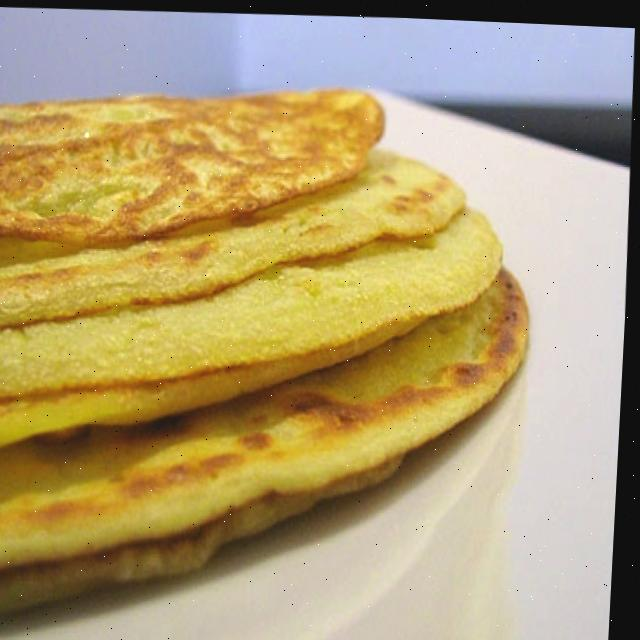蛋糕甜品: (0, 45, 613, 640)
